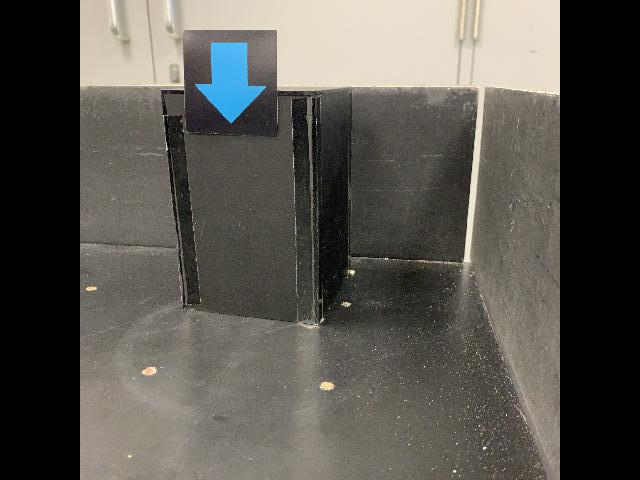down: (181, 28, 280, 139)
